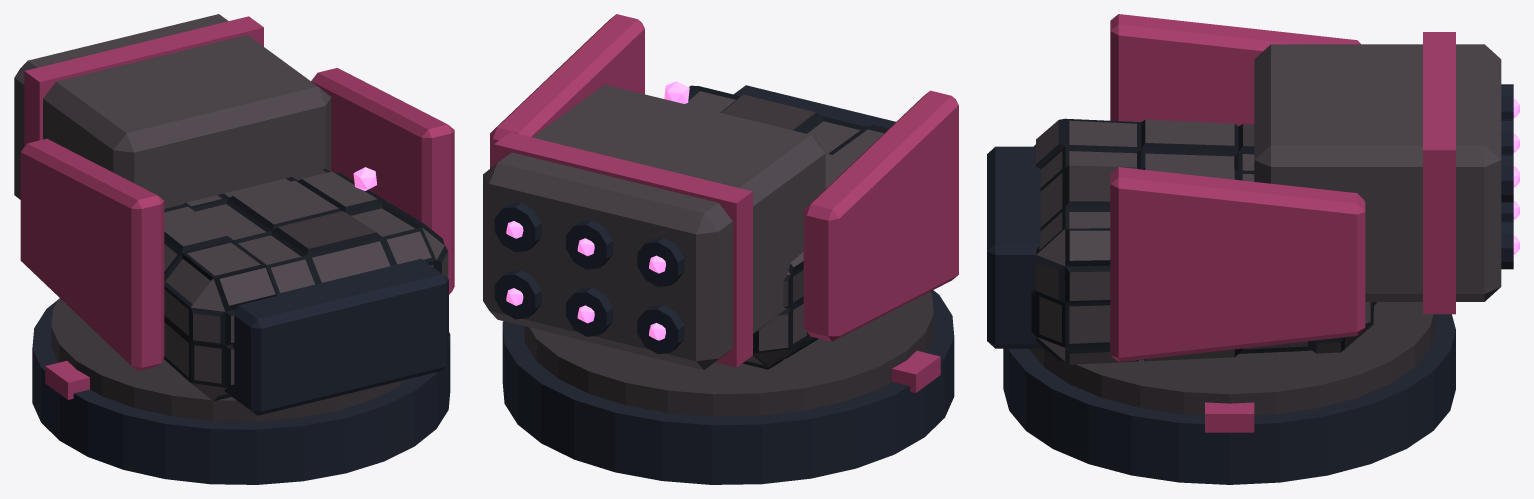
Rendered from turret_seeker_darts.glb.
The picture shows the model from 3 angles, left to right: view 1: azimuth 30°, elevation 25°; view 2: azimuth 150°, elevation 25°; view 3: azimuth 270°, elevation 25°; orthographic projection. The views are drawn at different scales.
Parts seen in each view (by area): view 1: Yaw_mesh, Pitch_mesh, Base_mesh; view 2: Pitch_mesh, Base_mesh, Yaw_mesh; view 3: Yaw_mesh, Pitch_mesh, Base_mesh.
Boxes of the visible parts, left/top/right/bottom form: Yaw_mesh: left=20, top=68, right=454, bottom=415; Pitch_mesh: left=14, top=14, right=331, bottom=203; Base_mesh: left=32, top=298, right=450, bottom=484; Pitch_mesh: left=483, top=84, right=825, bottom=369; Base_mesh: left=502, top=290, right=954, bottom=484; Yaw_mesh: left=490, top=14, right=958, bottom=369; Yaw_mesh: left=987, top=14, right=1376, bottom=364; Pitch_mesh: left=1254, top=32, right=1519, bottom=314; Base_mesh: left=1003, top=302, right=1455, bottom=484.
Size of the model in its own units: 1.12 by 0.8 by 1.3.
